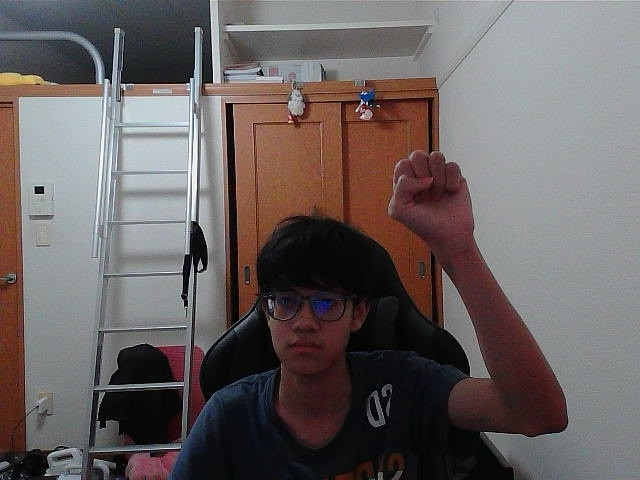closed_palm: (400, 155, 455, 233)
